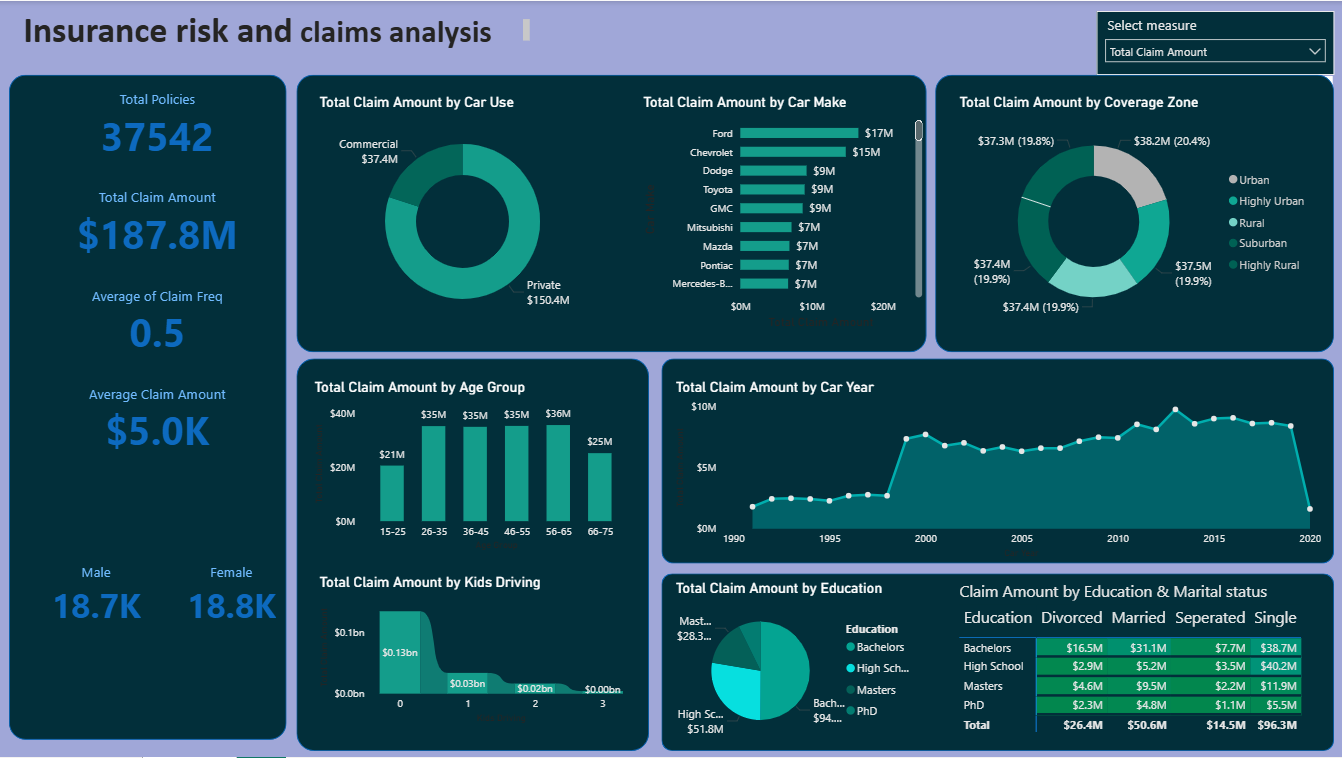

The dashboard page shown, as its layout file describes it:
{"tool":"powerbi","page":{"name":"Page 1","canvas":[1600,900],"ordinal":0},"visuals":[{"type":"textbox","box":[23.8,11.9,613.1,52.1],"z":0},{"type":"shape","box":[11.9,87.8,330.4,791.7],"z":1000},{"type":"cardVisual","fields":{"Data":["insurance_data_car.Total Policies","insurance_data_car.Total Claim Amount","Avg(insurance_data_car.Claim Freq)","insurance_data_car.Average Claim Amount"]},"box":[49.1,87.8,279.8,459.8],"z":2000},{"type":"cardVisual","fields":{"Data":["insurance_data_car.Male Count","insurance_data_car.Female Count"]},"box":[40.2,651.8,314,110.1],"z":3000},{"type":"slicer","fields":{"Values":["New measure.New measure"]},"box":[1306.6,11.9,282.7,75.9],"z":4000},{"type":"shape","box":[354.2,87.8,750,330.4],"z":5000},{"type":"donutChart","fields":{"Y":["insurance_data_car.Total Claim Amount"],"Category":["insurance_data_car.Car Use"]},"box":[376.5,110.1,351.2,285.7],"z":6000},{"type":"clusteredBarChart","fields":{"Y":["insurance_data_car.Total Claim Amount"],"Category":["insurance_data_car.Car Make"]},"box":[761.9,110.1,342.3,285.7],"z":7000},{"type":"shape","box":[1114.6,87.8,474.7,330.4],"z":8000},{"type":"donutChart","fields":{"Y":["insurance_data_car.Total Claim Amount"],"Category":["insurance_data_car.Coverage Zone"]},"box":[1138.4,110.1,430.1,285.7],"z":9000},{"type":"shape","box":[354.2,425.6,419.6,467.3],"z":10000},{"type":"clusteredColumnChart","fields":{"Y":["insurance_data_car.Total Claim Amount"],"Category":["insurance_data_car.Age Group"]},"box":[370.5,449.4,385.4,209.8],"z":11000},{"type":"ribbonChart","fields":{"Y":["insurance_data_car.Total Claim Amount"],"Category":["insurance_data_car.Kids Driving"]},"box":[376.5,681.6,379.5,183],"z":12000},{"type":"shape","box":[788.7,425.6,800.6,244],"z":13000},{"type":"areaChart","fields":{"Y":["insurance_data_car.Total Claim Amount"],"Category":["insurance_data_car.Car Year"]},"box":[800.6,449.4,778.3,218.8],"z":14000},{"type":"shape","box":[788.7,681.6,800.6,211.3],"z":15000},{"type":"pieChart","fields":{"Y":["insurance_data_car.Total Claim Amount"],"Category":["insurance_data_car.Education"]},"box":[800.6,689,300.6,197.9],"z":16000},{"type":"pivotTable","title":"Claim Amount by Education & Marital status","fields":{"Rows":["insurance_data_car.Education"],"Columns":["insurance_data_car.Marital Status"],"Values":["insurance_data_car.Total Claim Amount"]},"box":[1138.4,689,440.5,190.5],"z":17000}]}

Visuals, with their boxes in screenshot pixels (x1, y1, x2, y2), scaled from the page's 1600x900 canvas onto the 1342x758 screenshot:
textbox: x1=20 y1=10 x2=534 y2=54
shape: x1=10 y1=74 x2=287 y2=741
cardVisual - insurance_data_car.Total Policies x insurance_data_car.Total Claim Amount: x1=41 y1=74 x2=276 y2=461
cardVisual - insurance_data_car.Male Count x insurance_data_car.Female Count: x1=34 y1=549 x2=297 y2=642
slicer - New measure.New measure: x1=1096 y1=10 x2=1333 y2=74
shape: x1=297 y1=74 x2=926 y2=352
donutChart - insurance_data_car.Total Claim Amount x insurance_data_car.Car Use: x1=316 y1=93 x2=610 y2=333
clusteredBarChart - insurance_data_car.Total Claim Amount x insurance_data_car.Car Make: x1=639 y1=93 x2=926 y2=333
shape: x1=935 y1=74 x2=1333 y2=352
donutChart - insurance_data_car.Total Claim Amount x insurance_data_car.Coverage Zone: x1=955 y1=93 x2=1316 y2=333
shape: x1=297 y1=358 x2=649 y2=752
clusteredColumnChart - insurance_data_car.Total Claim Amount x insurance_data_car.Age Group: x1=311 y1=378 x2=634 y2=555
ribbonChart - insurance_data_car.Total Claim Amount x insurance_data_car.Kids Driving: x1=316 y1=574 x2=634 y2=728
shape: x1=662 y1=358 x2=1333 y2=564
areaChart - insurance_data_car.Total Claim Amount x insurance_data_car.Car Year: x1=672 y1=378 x2=1324 y2=563
shape: x1=662 y1=574 x2=1333 y2=752
pieChart - insurance_data_car.Total Claim Amount x insurance_data_car.Education: x1=672 y1=580 x2=924 y2=747
"Claim Amount by Education & Marital status" pivotTable: x1=955 y1=580 x2=1324 y2=741
